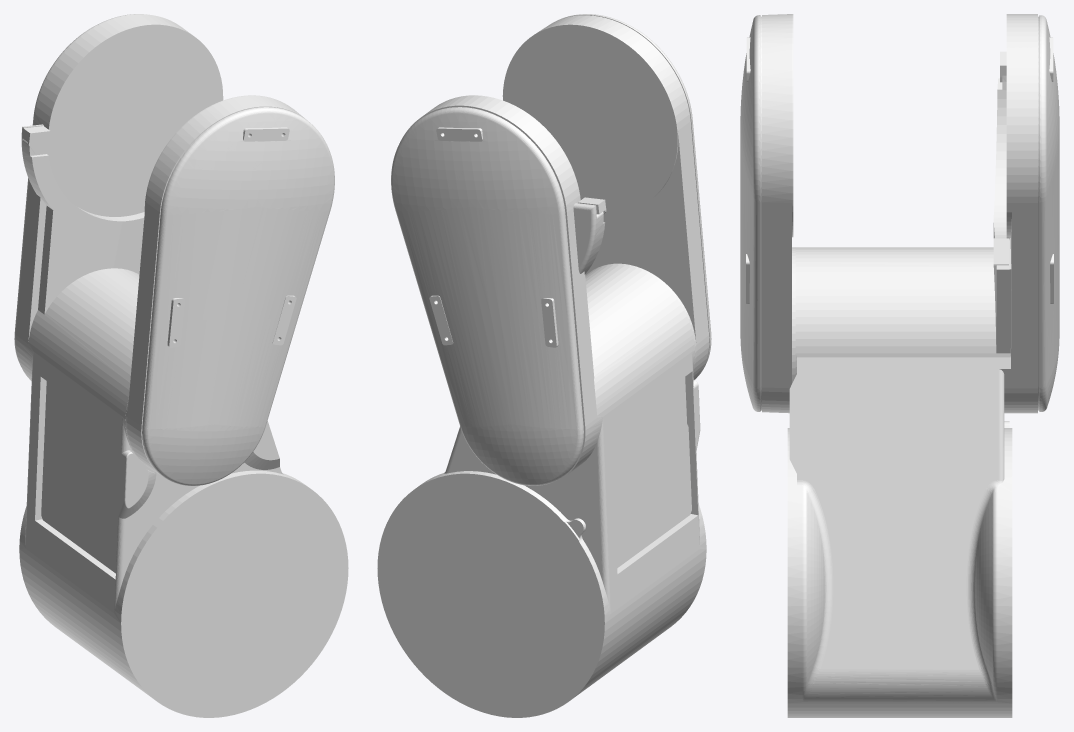
3 renders of one model, left to right at view 1: azimuth 30°, elevation 25°; view 2: azimuth 150°, elevation 25°; view 3: azimuth 270°, elevation 25°, orthographic. The views are drawn at different scales.
Visible parts, largest first — view 1: RV-7F_NO1ARM_03; view 2: RV-7F_NO1ARM_03; view 3: RV-7F_NO1ARM_03.
Boxes of the visible parts, x1=… form: RV-7F_NO1ARM_03: x1=14, y1=14, x2=348, y2=717; RV-7F_NO1ARM_03: x1=377, y1=14, x2=711, y2=717; RV-7F_NO1ARM_03: x1=740, y1=14, x2=1059, y2=717.
Bounding box in the file's own units: 0.2 × 0.22 × 0.517.
1 material, 1 textured.
